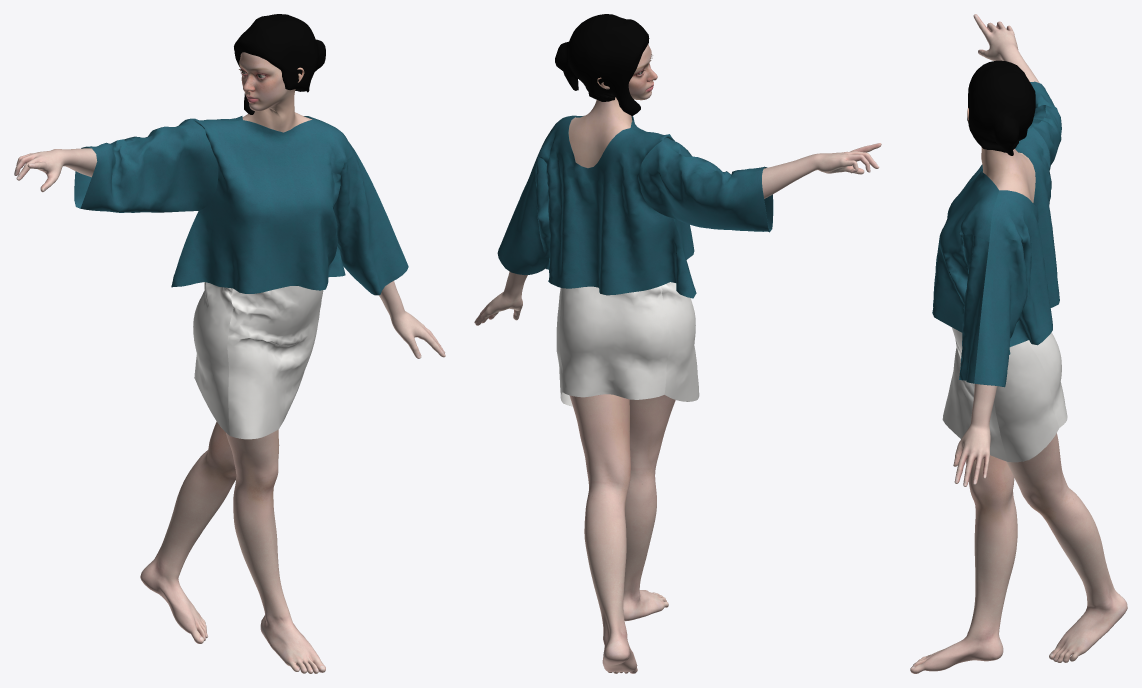
The model's file is Custom_View_1__Dynamic.obj.
The picture shows the model from 3 angles, left to right: view 1: azimuth 30°, elevation 25°; view 2: azimuth 150°, elevation 25°; view 3: azimuth 270°, elevation 25°; orthographic projection. The views are drawn at different scales.
Size of the model in its own units: 1226 by 1775 by 569.
